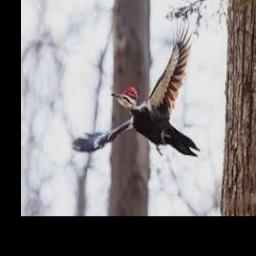Woodpecker: (72, 19, 200, 156)
